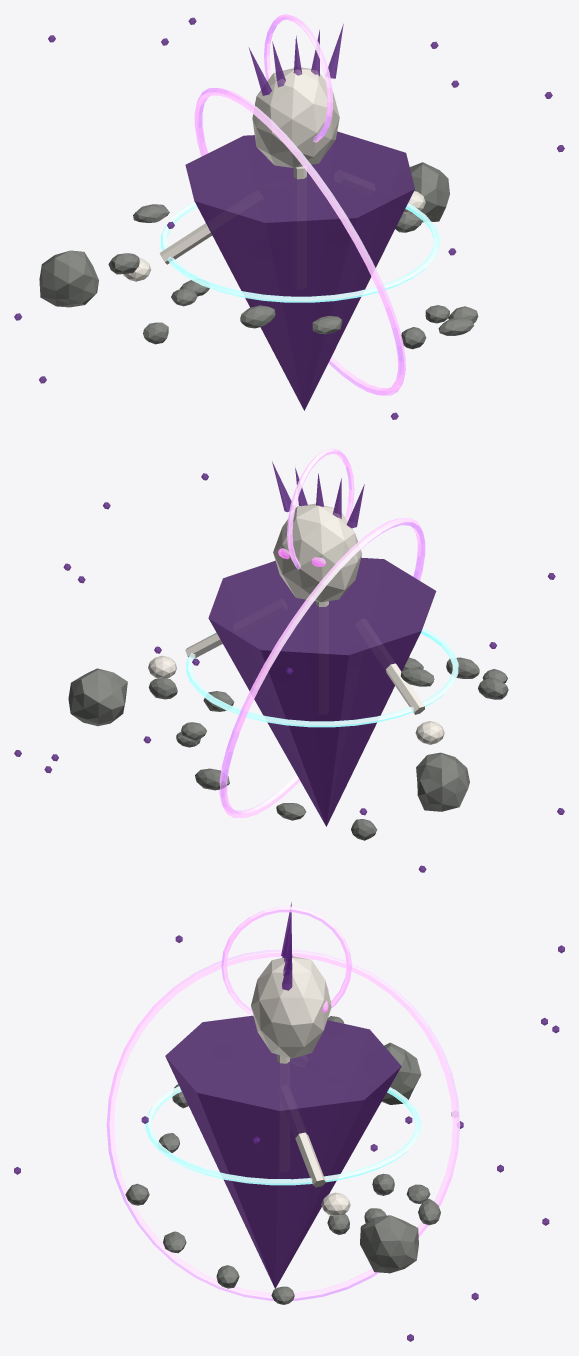
File: boss_09_astral_sovereign.glb
The picture shows the model from 3 angles, top to bottom: view 1: azimuth 30°, elevation 25°; view 2: azimuth 150°, elevation 25°; view 3: azimuth 270°, elevation 25°; orthographic projection. The views are drawn at different scales.
Parts seen in each view (by area): view 1: astral_sovereign_light_absorbing_robe, astral_sovereign_ethereal_skull, astral_sovereign_cosmic_shield_orbit_A, astral_sovereign_condensed_meteor_ready_-1, astral_sovereign_cosmic_shield_orbit_B, astral_sovereign_condensed_meteor_ready_1, astral_sovereign_cosmic_halo, astral_sovereign_bone_arm_-1, astral_sovereign_zero_g_orbital_debris_5, astral_sovereign_zero_g_orbital_debris_7, astral_sovereign_zero_g_orbital_debris_8, astral_sovereign_zero_g_orbital_debris_2; view 2: astral_sovereign_light_absorbing_robe, astral_sovereign_ethereal_skull, astral_sovereign_cosmic_shield_orbit_A, astral_sovereign_condensed_meteor_ready_1, astral_sovereign_condensed_meteor_ready_-1, astral_sovereign_cosmic_shield_orbit_B, astral_sovereign_cosmic_halo, astral_sovereign_bone_arm_-1, astral_sovereign_gravity_hand_-1, astral_sovereign_gravity_hand_1, astral_sovereign_zero_g_orbital_debris_11, astral_sovereign_zero_g_orbital_debris_7; view 3: astral_sovereign_light_absorbing_robe, astral_sovereign_cosmic_shield_orbit_A, astral_sovereign_ethereal_skull, astral_sovereign_condensed_meteor_ready_1, astral_sovereign_cosmic_shield_orbit_B, astral_sovereign_cosmic_halo, astral_sovereign_condensed_meteor_ready_-1, astral_sovereign_bone_arm_1, astral_sovereign_gravity_hand_1.
Part boxes in pixels (left/top/right/bottom): astral_sovereign_light_absorbing_robe: left=185, top=131, right=414, bottom=410; astral_sovereign_ethereal_skull: left=252, top=67, right=339, bottom=167; astral_sovereign_cosmic_shield_orbit_A: left=194, top=88, right=405, bottom=395; astral_sovereign_condensed_meteor_ready_-1: left=39, top=250, right=98, bottom=307; astral_sovereign_cosmic_shield_orbit_B: left=160, top=202, right=439, bottom=302; astral_sovereign_condensed_meteor_ready_1: left=410, top=162, right=449, bottom=222; astral_sovereign_cosmic_halo: left=264, top=14, right=333, bottom=142; astral_sovereign_bone_arm_-1: left=159, top=223, right=212, bottom=264; astral_sovereign_zero_g_orbital_debris_5: left=240, top=305, right=275, bottom=328; astral_sovereign_zero_g_orbital_debris_7: left=108, top=253, right=139, bottom=274; astral_sovereign_zero_g_orbital_debris_8: left=133, top=204, right=169, bottom=222; astral_sovereign_zero_g_orbital_debris_2: left=438, top=317, right=474, bottom=335; astral_sovereign_light_absorbing_robe: left=208, top=557, right=436, bottom=826; astral_sovereign_ethereal_skull: left=273, top=503, right=362, bottom=602; astral_sovereign_cosmic_shield_orbit_A: left=219, top=518, right=425, bottom=817; astral_sovereign_condensed_meteor_ready_1: left=68, top=668, right=127, bottom=726; astral_sovereign_condensed_meteor_ready_-1: left=416, top=752, right=469, bottom=811; astral_sovereign_cosmic_shield_orbit_B: left=186, top=628, right=458, bottom=727; astral_sovereign_cosmic_halo: left=287, top=448, right=354, bottom=569; astral_sovereign_bone_arm_-1: left=386, top=663, right=424, bottom=714; astral_sovereign_gravity_hand_-1: left=415, top=721, right=444, bottom=744; astral_sovereign_gravity_hand_1: left=148, top=655, right=176, bottom=679; astral_sovereign_zero_g_orbital_debris_11: left=195, top=768, right=229, bottom=790; astral_sovereign_zero_g_orbital_debris_7: left=478, top=677, right=508, bottom=699; astral_sovereign_light_absorbing_robe: left=165, top=1015, right=401, bottom=1288; astral_sovereign_cosmic_shield_orbit_A: left=106, top=949, right=460, bottom=1300; astral_sovereign_ethereal_skull: left=251, top=956, right=331, bottom=1058; astral_sovereign_condensed_meteor_ready_1: left=360, top=1215, right=418, bottom=1273; astral_sovereign_cosmic_shield_orbit_B: left=145, top=1086, right=421, bottom=1185; astral_sovereign_cosmic_halo: left=221, top=906, right=352, bottom=1016; astral_sovereign_condensed_meteor_ready_-1: left=381, top=1042, right=421, bottom=1104; astral_sovereign_bone_arm_1: left=295, top=1132, right=325, bottom=1187; astral_sovereign_gravity_hand_1: left=321, top=1192, right=350, bottom=1216.
Size of the model in its own units: 3.41 by 2.57 by 3.35.
